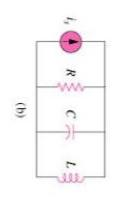Capacitor: (56, 119, 82, 144)
